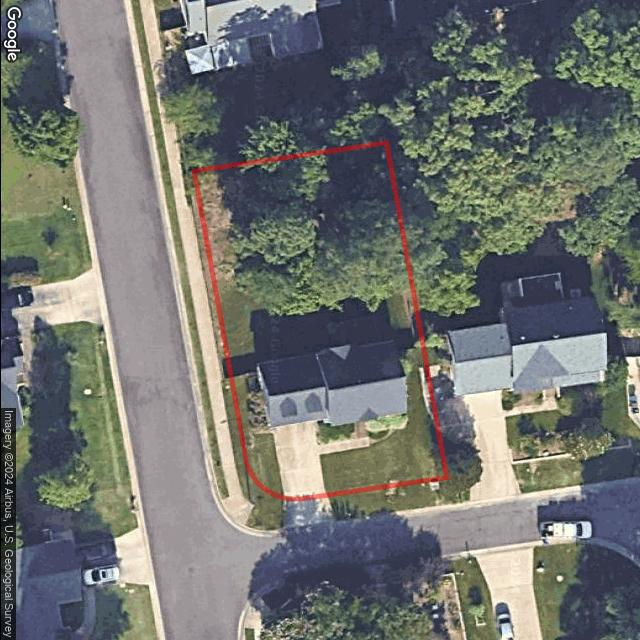Driveway: (272, 421, 326, 500)
Extra-Driveway: (282, 496, 335, 529)
Extra-Lawn: (183, 174, 283, 531), (160, 177, 230, 500), (326, 478, 448, 523)
Extra-Sidewalk: (169, 173, 253, 527)
House: (256, 339, 406, 428)
Lawn: (192, 143, 447, 499)
Other: (367, 414, 407, 443), (316, 419, 355, 444)
Sidewalk: (316, 420, 369, 454)
